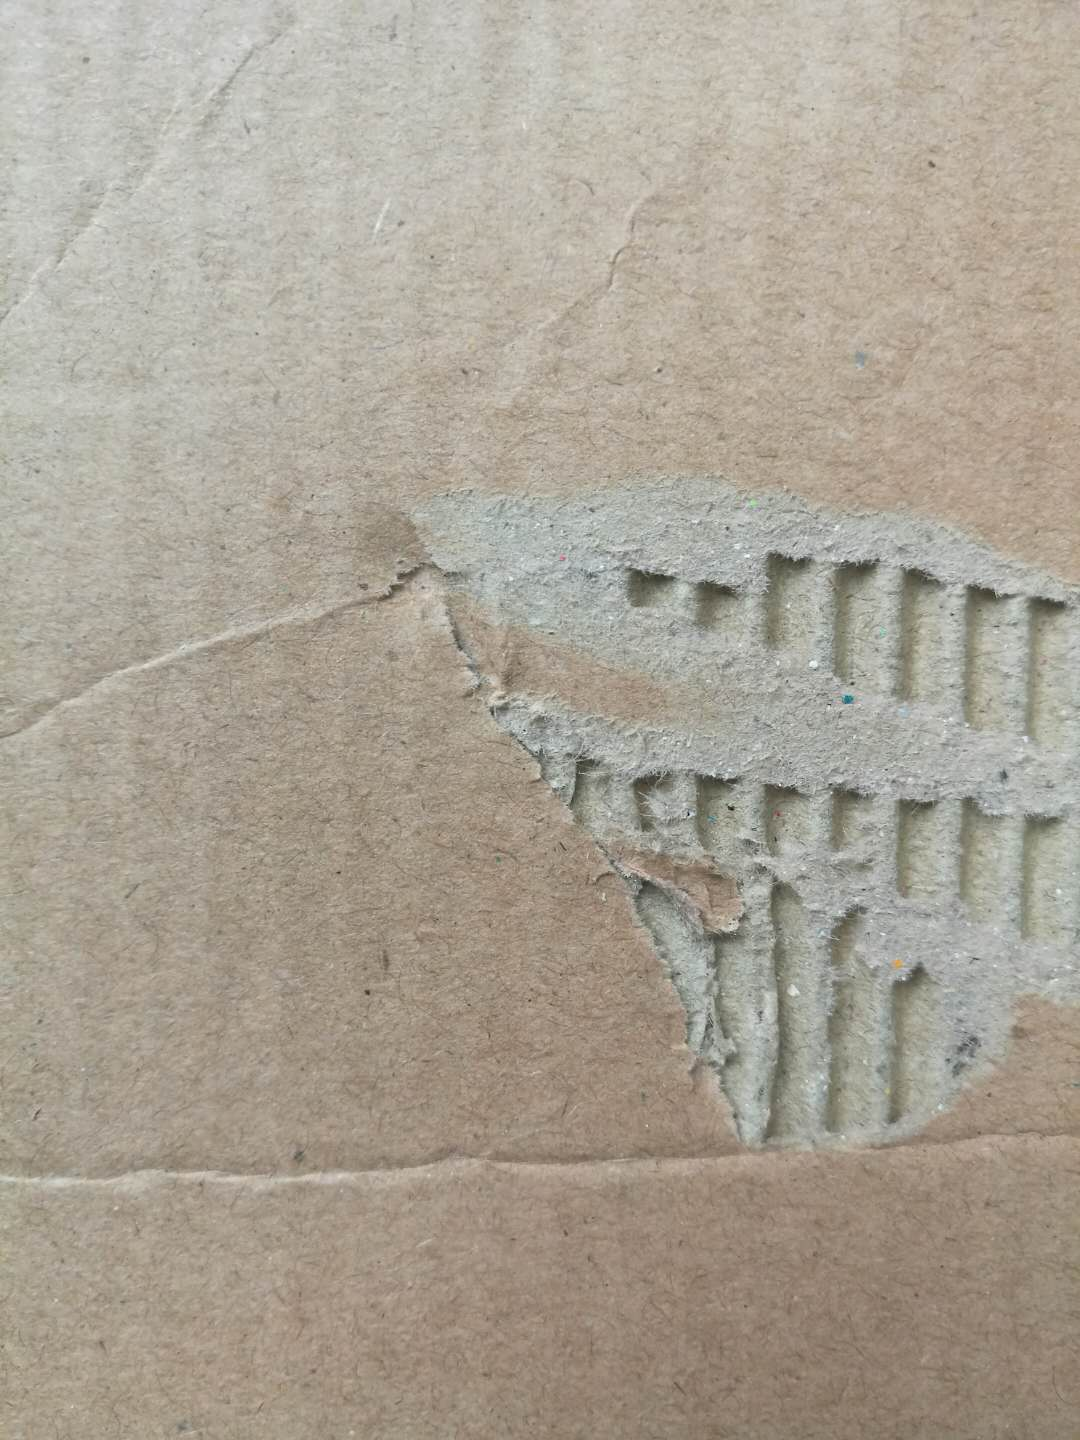defect: (395, 444, 1080, 1189), (3, 1090, 1080, 1240), (1, 530, 469, 762), (3, 8, 320, 338)
